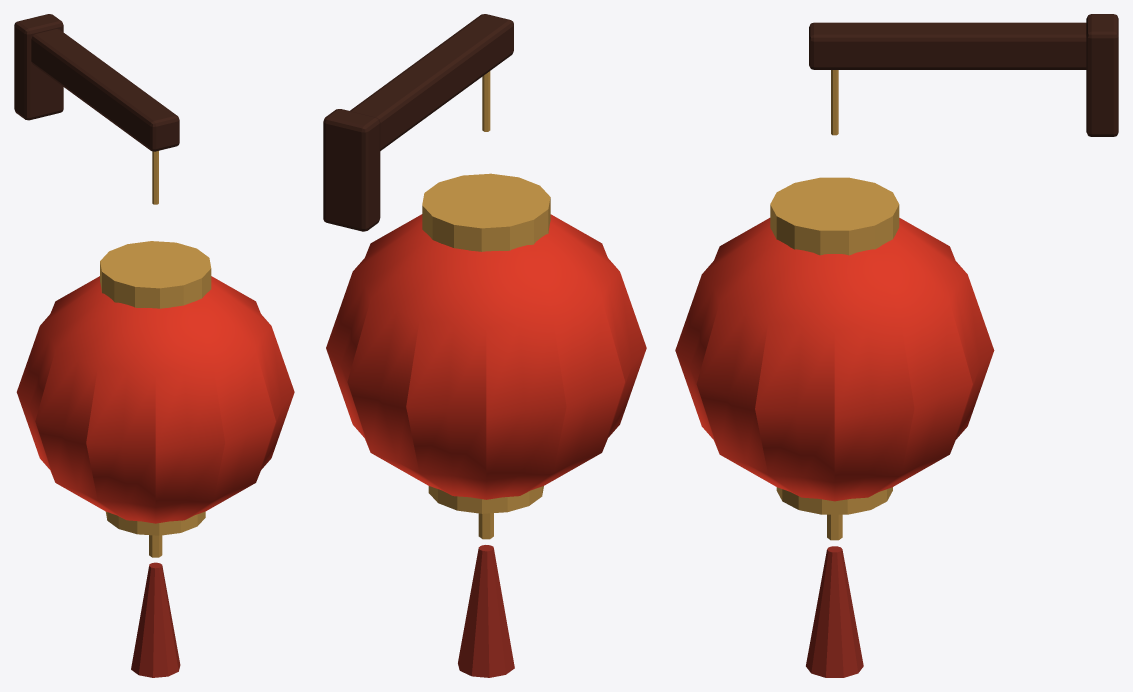
The model's file is lantern.glb.
The picture shows the model from 3 angles, left to right: view 1: azimuth 30°, elevation 25°; view 2: azimuth 150°, elevation 25°; view 3: azimuth 270°, elevation 25°; orthographic projection. The views are drawn at different scales.
Parts seen in each view (by area): view 1: lantern; view 2: lantern; view 3: lantern.
Boxes of the visible parts, bbox=[...] form: lantern: bbox=[14, 14, 294, 677]; lantern: bbox=[323, 14, 646, 677]; lantern: bbox=[675, 14, 1118, 677].
Bounding box in the file's own units: 0.4944 × 1.1 × 0.6872.
